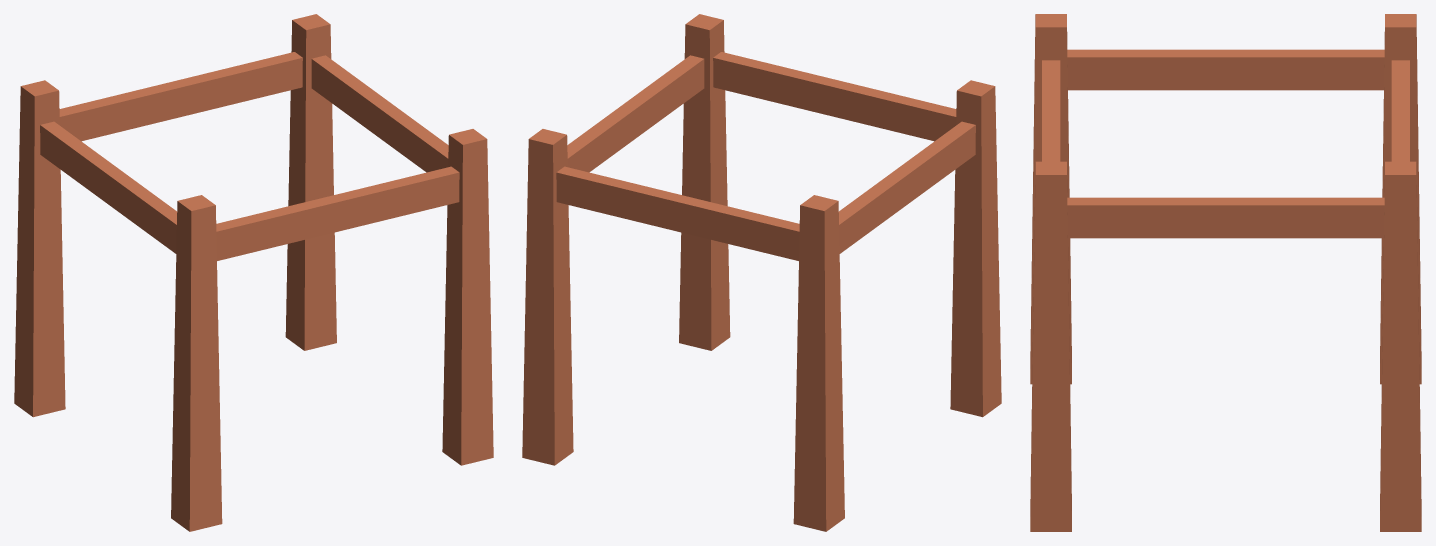
File: structure.obj
The picture shows the model from 3 angles, left to right: view 1: azimuth 30°, elevation 25°; view 2: azimuth 150°, elevation 25°; view 3: azimuth 270°, elevation 25°; orthographic projection. The views are drawn at different scales.
Bounding box in the file's own units: 0.5 × 0.5 × 0.5.
